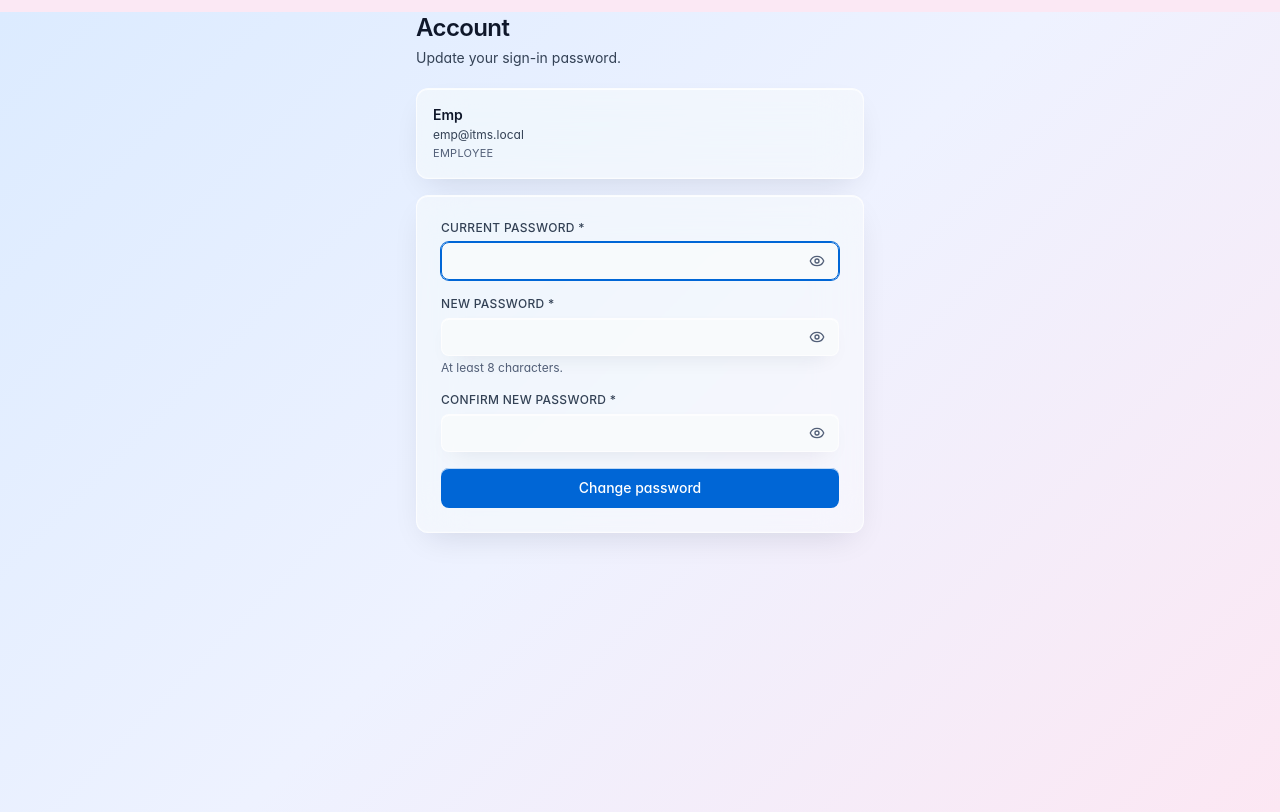
it: Account submit validation (FORM-02) › empty submit shows per-field inline errors, blocks changePassword, and focuses the first field
This screenshot has width=1280, height=812.
Click the button "Change password" at (640, 488), box [441,468,839,508]
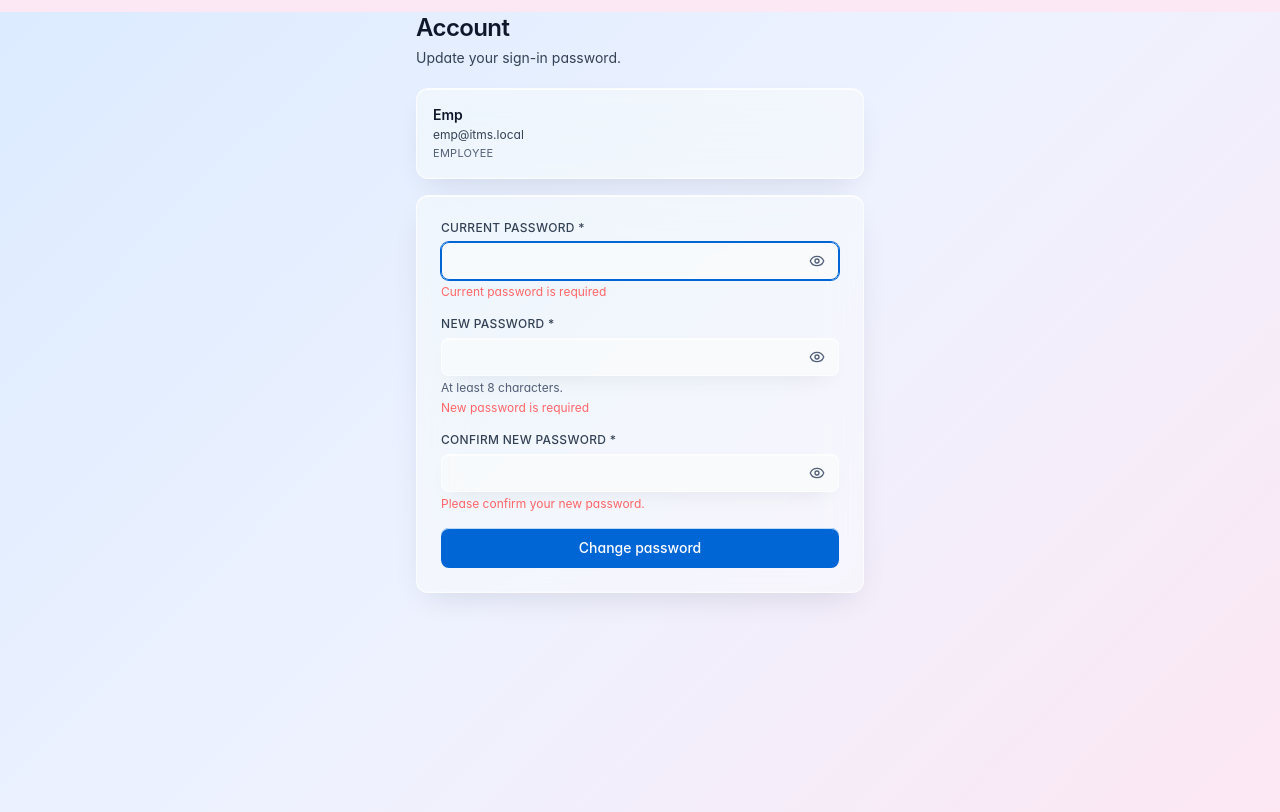
Expected: the text "New password is required" is shown, [441,400,589,414]
Expected: the text "Please confirm your new password." is shown, [441,496,645,510]
